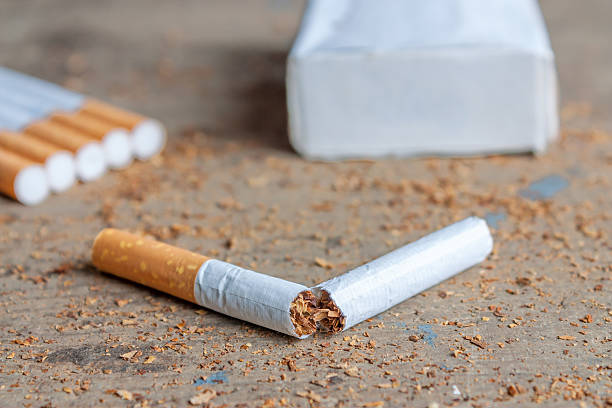cigarette: (283, 0, 560, 164), (86, 213, 320, 342), (310, 215, 493, 336), (0, 65, 166, 162), (0, 83, 134, 169), (0, 102, 107, 182), (0, 126, 77, 195), (0, 143, 50, 207)
